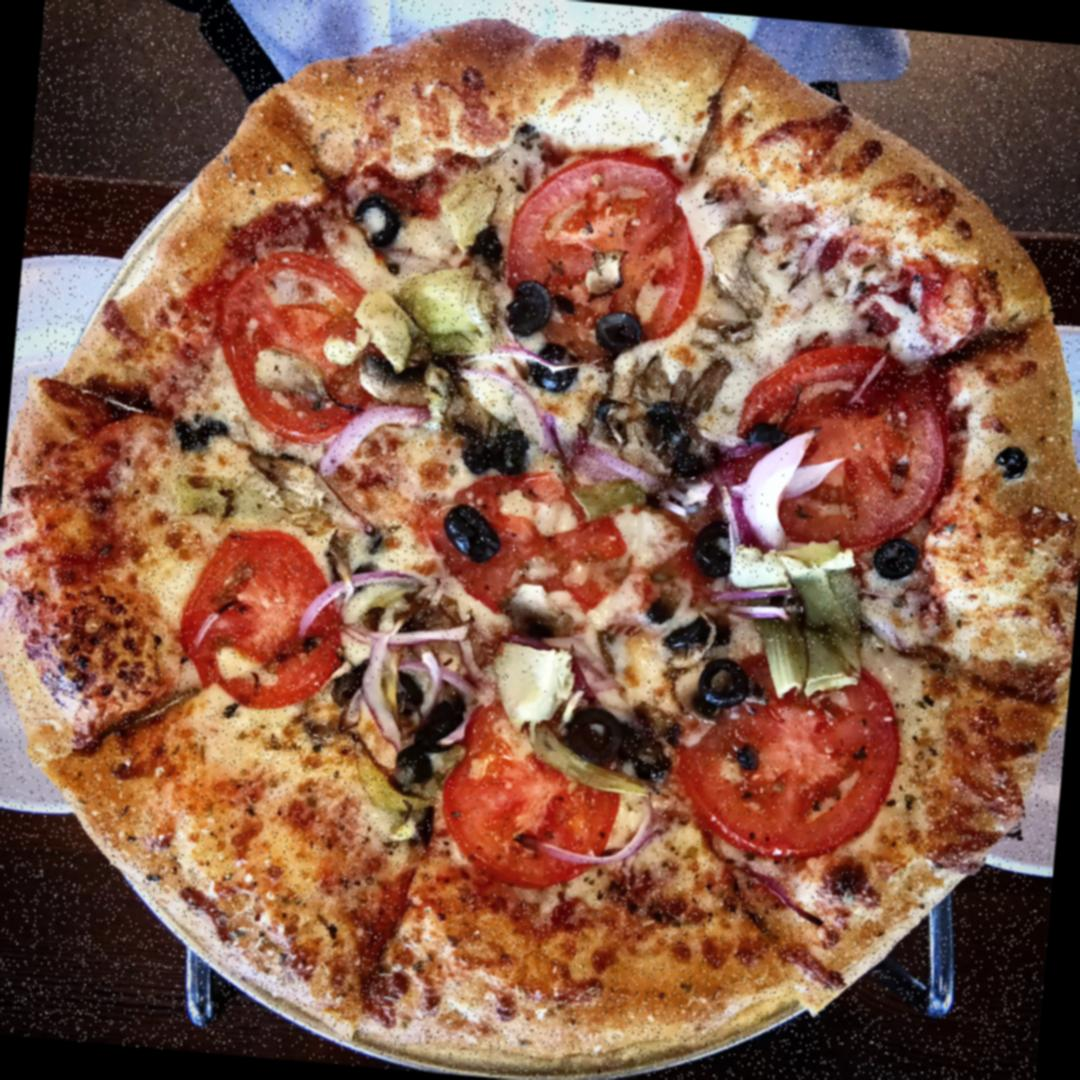Mushroom: (622, 346, 738, 484), (352, 341, 475, 422), (691, 214, 780, 322), (640, 595, 726, 668)
Olives: (640, 396, 716, 478), (558, 695, 634, 773), (693, 648, 763, 719), (436, 499, 507, 567), (652, 598, 738, 653), (688, 511, 746, 583), (504, 272, 561, 338), (350, 187, 408, 251), (444, 413, 496, 481), (418, 686, 470, 752), (485, 422, 540, 484), (872, 524, 926, 586), (526, 336, 580, 397), (462, 219, 516, 276), (171, 408, 231, 457), (594, 304, 652, 353), (622, 725, 673, 778), (990, 438, 1040, 492), (394, 736, 444, 790), (750, 414, 792, 458), (390, 668, 426, 716), (334, 658, 368, 706)
Onion: (356, 634, 487, 765), (744, 414, 855, 568), (297, 559, 480, 652), (506, 619, 650, 729), (453, 338, 557, 452), (542, 418, 682, 501), (535, 786, 663, 876), (320, 396, 448, 479), (689, 572, 826, 638), (784, 200, 858, 302), (842, 345, 901, 408)
Pizza: (0, 0, 1080, 1080)
Tomatoes: (666, 636, 910, 879), (727, 330, 962, 572), (418, 464, 725, 648), (502, 138, 716, 373), (436, 694, 633, 905), (165, 514, 361, 726), (206, 246, 389, 448)
